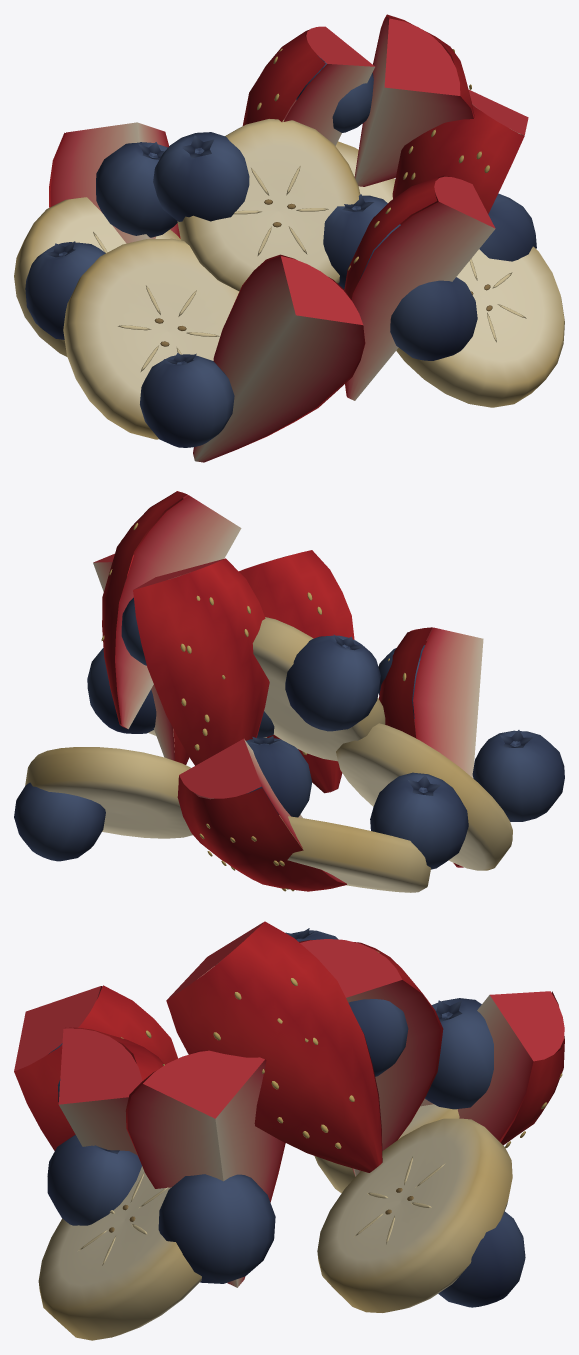
The model's file is fruit-serving.glb.
3 views of the same model, one above another, from view 1: azimuth 30°, elevation 25°; view 2: azimuth 150°, elevation 25°; view 3: azimuth 270°, elevation 25° (orthographic). The views are drawn at different scales.
Parts seen in each view (by area): view 1: DEMIAND strawberry blueberry banana serving; view 2: DEMIAND strawberry blueberry banana serving; view 3: DEMIAND strawberry blueberry banana serving.
Boxes of the visible parts, x1,y1,x2,y2 form: DEMIAND strawberry blueberry banana serving: (14,14,564,462); DEMIAND strawberry blueberry banana serving: (14,491,564,892); DEMIAND strawberry blueberry banana serving: (14,921,564,1340).
Size of the model in its own units: 0.09 by 0.07 by 0.085.
